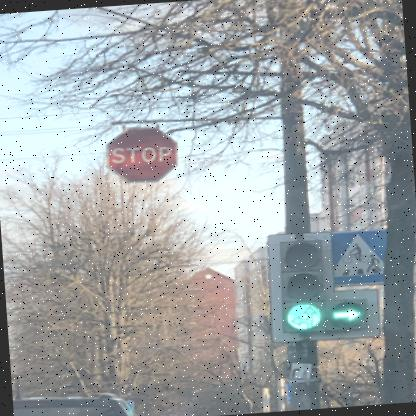crosswalk: (331, 226, 388, 288)
stop: (100, 124, 176, 186)
trafficlight: (274, 234, 368, 337)
